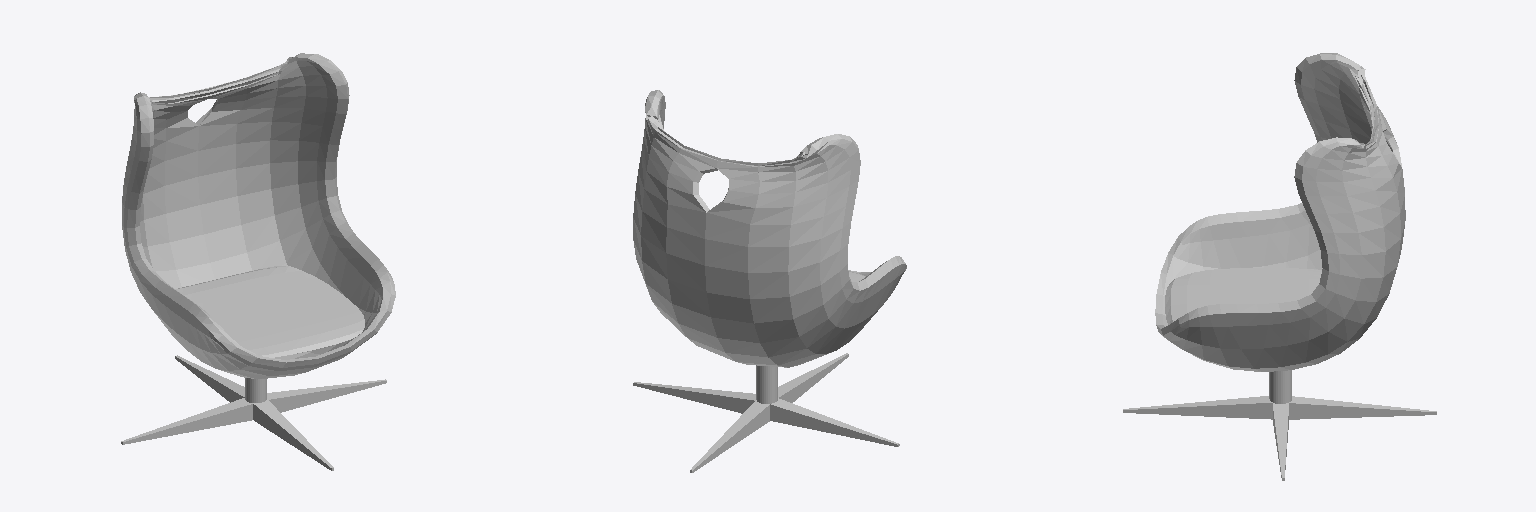
Rendered from Plastic Chair1.obj.
3 renders of one model, left to right at view 1: azimuth 30°, elevation 25°; view 2: azimuth 150°, elevation 25°; view 3: azimuth 270°, elevation 25°, orthographic.
Parts seen in each view (by area): view 1: Chair_Cube, seat_Cube.001, leg3_Cube.003, leg1_Cube.002, leg2_Cube.004, leg4_Cube.005; view 2: Chair_Cube, leg3_Cube.003, leg1_Cube.002, leg4_Cube.005, leg2_Cube.004, Cylinder; view 3: Chair_Cube, seat_Cube.001, leg2_Cube.004, leg4_Cube.005, leg1_Cube.002, Cylinder.
Boxes of the visible parts, x1=… form: Chair_Cube: x1=122, y1=53, x2=395, y2=379; seat_Cube.001: x1=175, y1=265, x2=364, y2=357; leg3_Cube.003: x1=121, y1=398, x2=252, y2=444; leg1_Cube.002: x1=267, y1=379, x2=386, y2=412; leg2_Cube.004: x1=253, y1=399, x2=333, y2=470; leg4_Cube.005: x1=175, y1=355, x2=244, y2=402; Chair_Cube: x1=633, y1=90, x2=906, y2=367; leg3_Cube.003: x1=770, y1=398, x2=899, y2=446; leg1_Cube.002: x1=633, y1=382, x2=755, y2=413; leg4_Cube.005: x1=690, y1=400, x2=769, y2=472; leg2_Cube.004: x1=778, y1=353, x2=848, y2=402; Cylinder: x1=756, y1=365, x2=777, y2=403; Chair_Cube: x1=1155, y1=53, x2=1405, y2=371; seat_Cube.001: x1=1165, y1=268, x2=1321, y2=324; leg2_Cube.004: x1=1123, y1=396, x2=1272, y2=419; leg4_Cube.005: x1=1289, y1=396, x2=1436, y2=419; leg1_Cube.002: x1=1273, y1=403, x2=1288, y2=480; Cylinder: x1=1269, y1=370, x2=1291, y2=403.
Bounding box in the file's own units: 2.44 × 2.82 × 2.5.